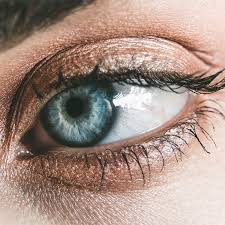pupil: (42, 84, 118, 146)
